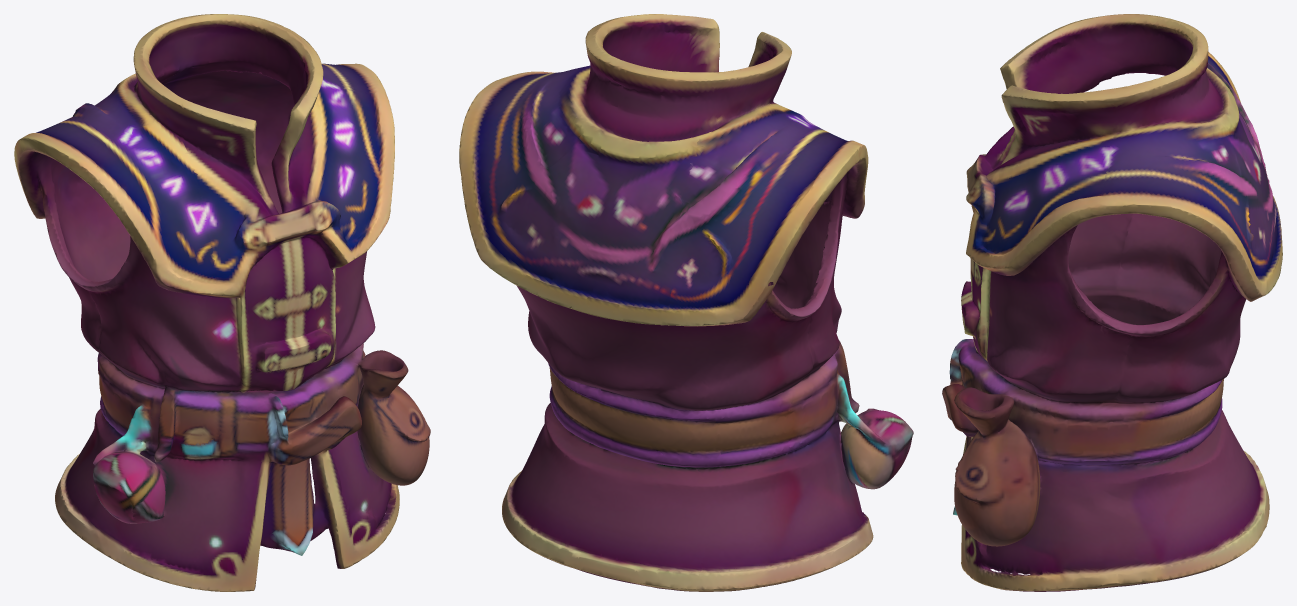
The model's file is peito-mago.glb.
3 views of the same model, side by side, from view 1: azimuth 30°, elevation 25°; view 2: azimuth 150°, elevation 25°; view 3: azimuth 270°, elevation 25° (orthographic). The views are drawn at different scales.
Visible parts, largest first — view 1: armor_chest_mage; view 2: armor_chest_mage; view 3: armor_chest_mage.
Boxes of the visible parts, <box> form: armor_chest_mage: <box>14,14,430,591</box>; armor_chest_mage: <box>459,14,913,591</box>; armor_chest_mage: <box>942,14,1282,591</box>.
Size of the model in its own units: 0.1892 by 0.2626 by 0.1618.
Materials: 1 (1 with a texture image).
